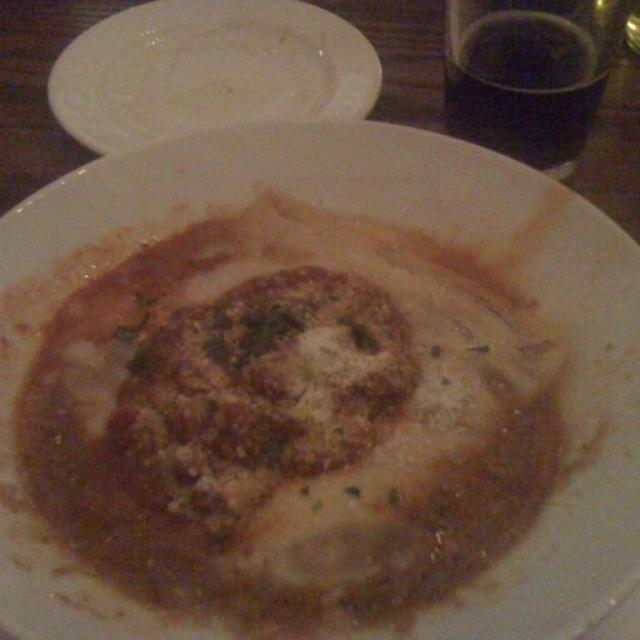Lasagna: (63, 230, 545, 559)
